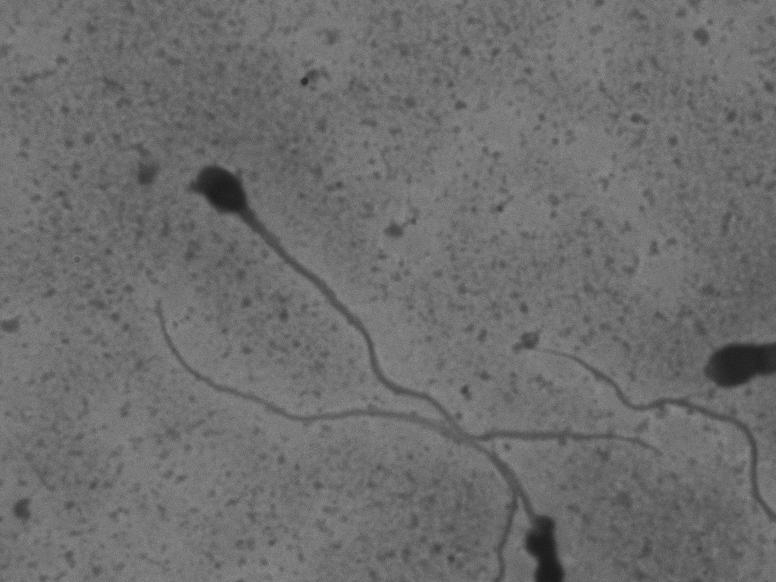Normal: (169, 149, 668, 465)
